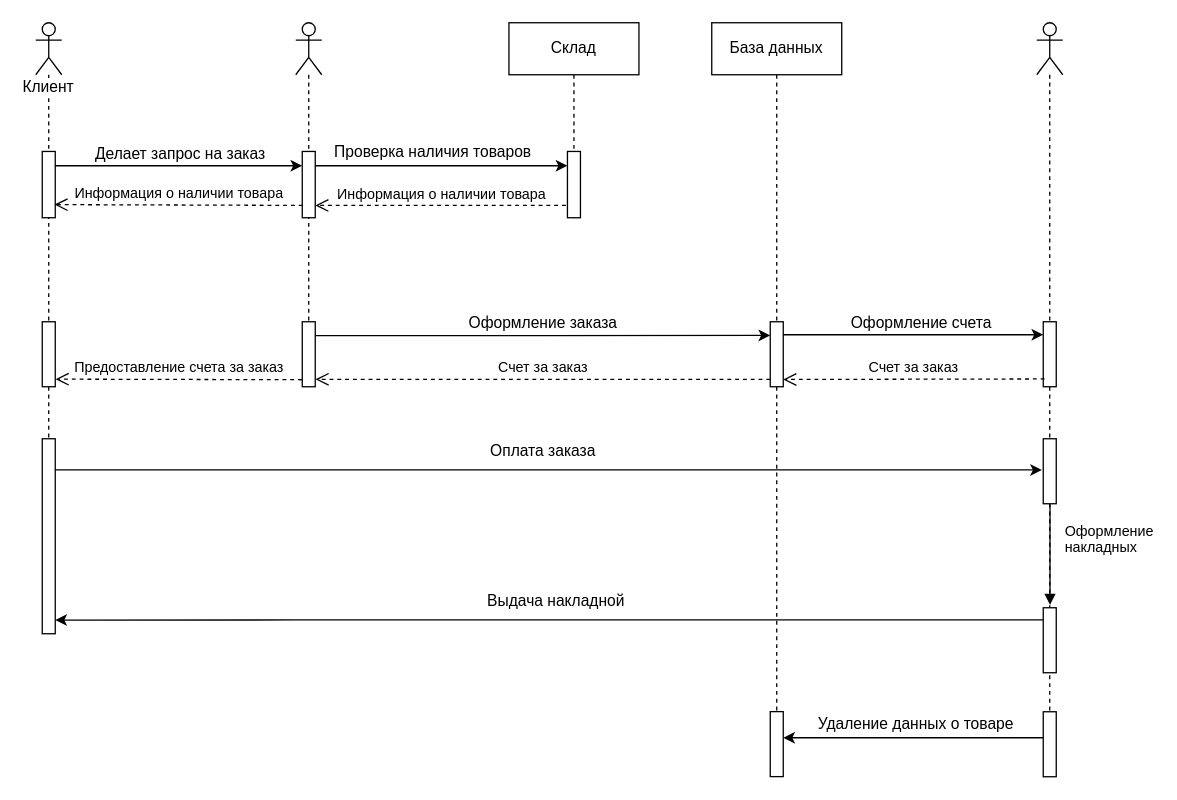
Image size: 1177x800. Some labels were removed from this diagram. The centre of each missing label's shape, as x and y in pixels:
Бухгалтер: point 1049,399
Менеджер: point 308,171
